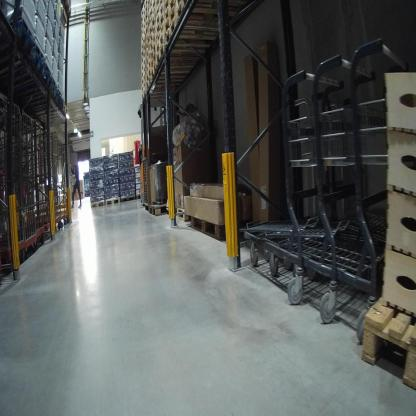forklift: (133, 96, 173, 229)
pallet: (350, 285, 414, 391), (163, 18, 238, 50), (174, 1, 247, 33), (189, 211, 249, 247), (5, 71, 59, 108), (3, 49, 46, 91), (156, 38, 215, 67), (21, 90, 64, 118), (16, 101, 68, 124), (6, 20, 39, 51), (151, 60, 199, 81), (146, 78, 193, 93), (168, 205, 189, 223), (150, 201, 172, 218), (165, 8, 179, 33), (59, 2, 76, 19), (164, 1, 177, 23), (155, 31, 167, 53), (106, 194, 121, 210), (88, 198, 106, 211), (156, 15, 165, 37), (156, 3, 165, 25), (120, 195, 137, 206), (144, 65, 153, 84), (155, 25, 165, 42), (150, 22, 158, 39), (150, 13, 158, 30), (156, 0, 165, 14), (151, 42, 158, 59), (141, 86, 148, 102), (150, 0, 156, 17), (151, 53, 158, 66), (150, 35, 156, 49), (141, 77, 146, 91)
stillage: (140, 154, 152, 216)
